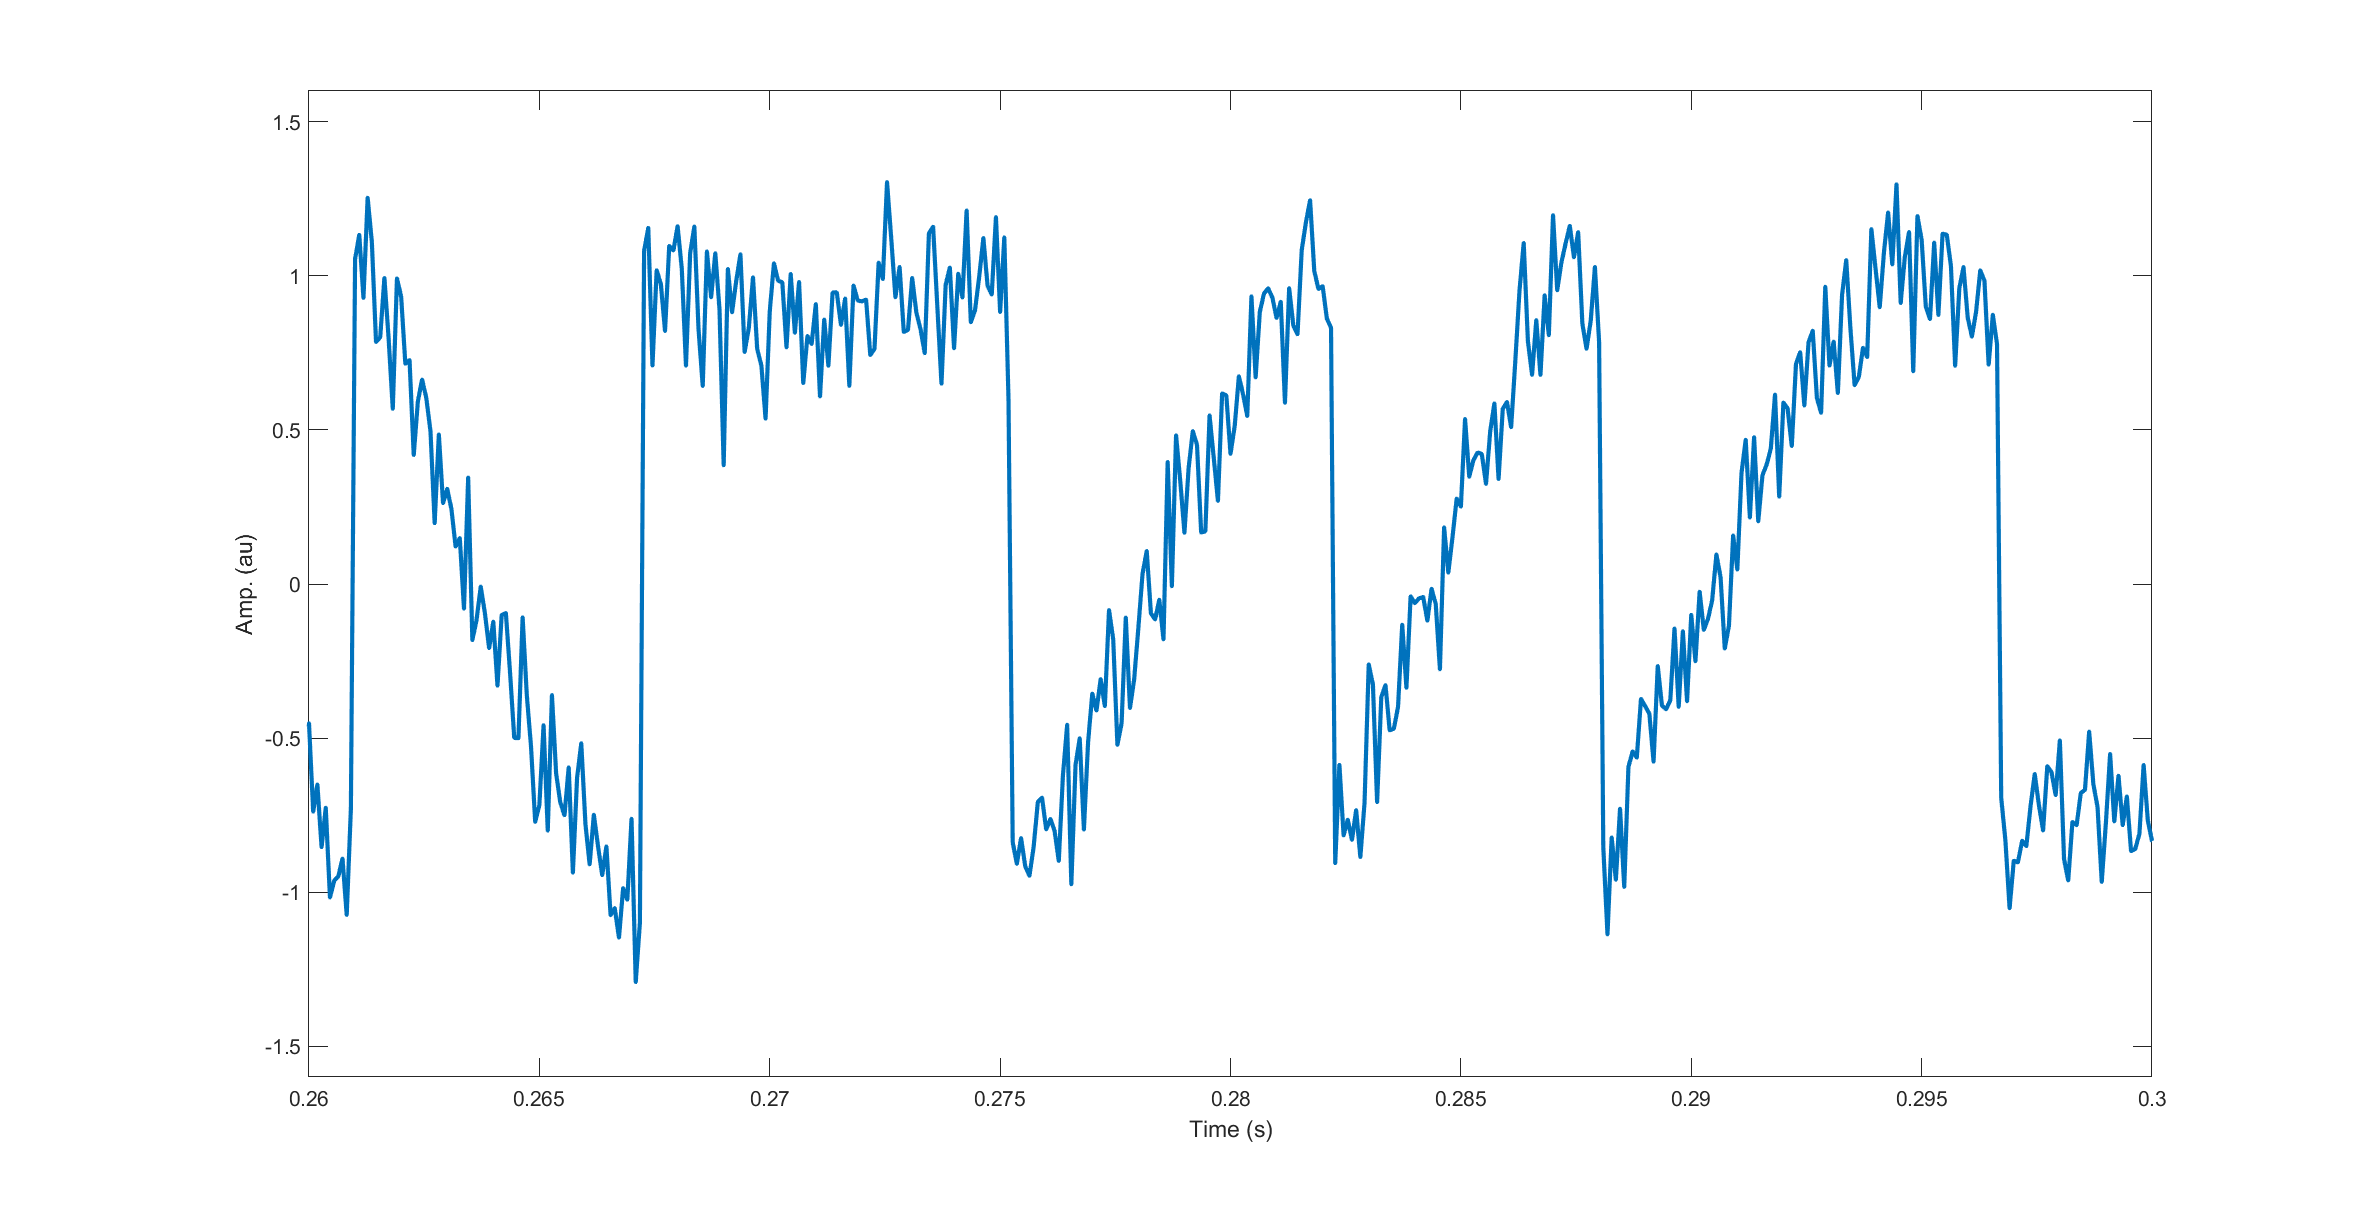negative_fringe: (343, 182, 586, 898)
positive_fringe: (1631, 162, 2009, 881), (1040, 182, 1343, 884), (1378, 201, 1610, 874)
